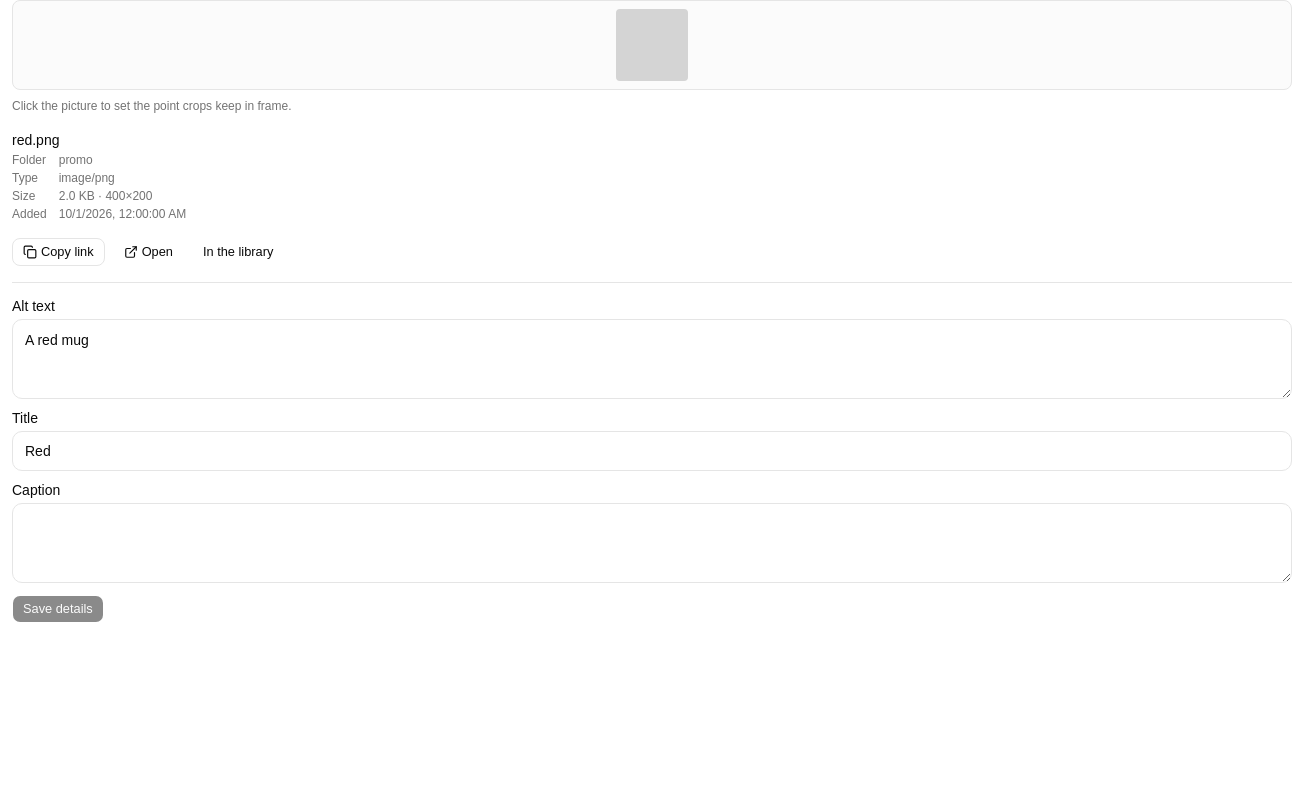
Scenario: AssetPanel › says why a save failed and keeps the draft
This screenshot has width=1304, height=800.
Step 1. Replace the text in the field labelled "Title" with "Blue" → (652, 451), box x1=12 y1=431 x2=1292 y2=471
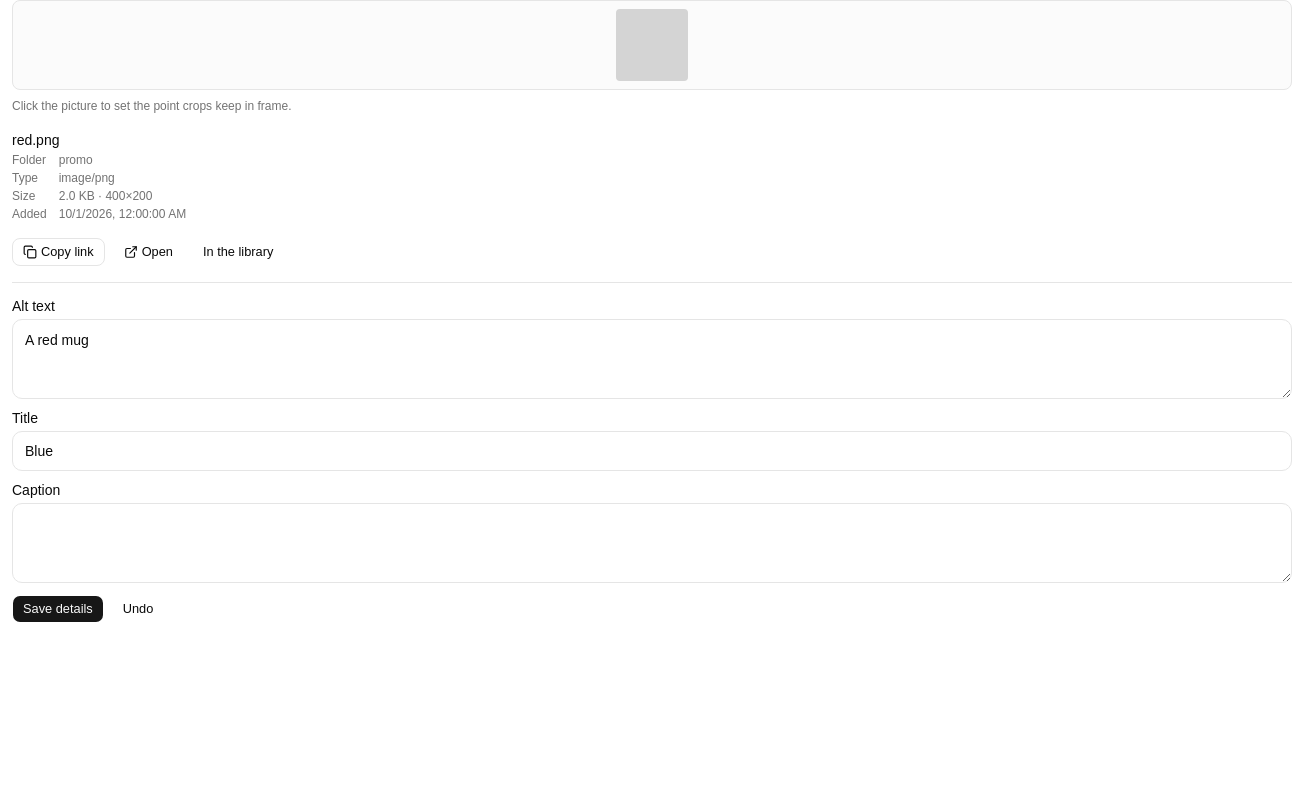
Step 2. Click the button "Save details" → (58, 609), box x1=12 y1=595 x2=104 y2=623
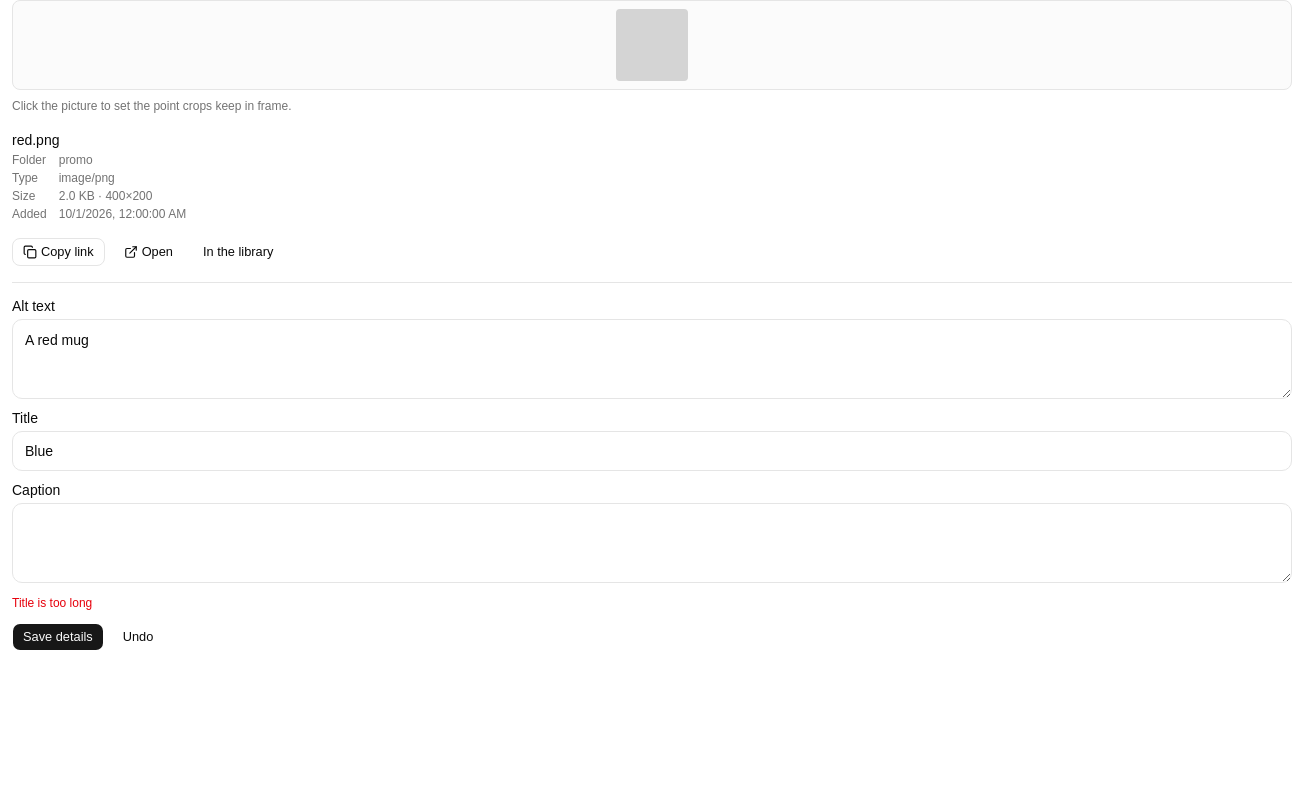
expect the text "Title is too long" is shown: met, box x1=12 y1=596 x2=92 y2=610
